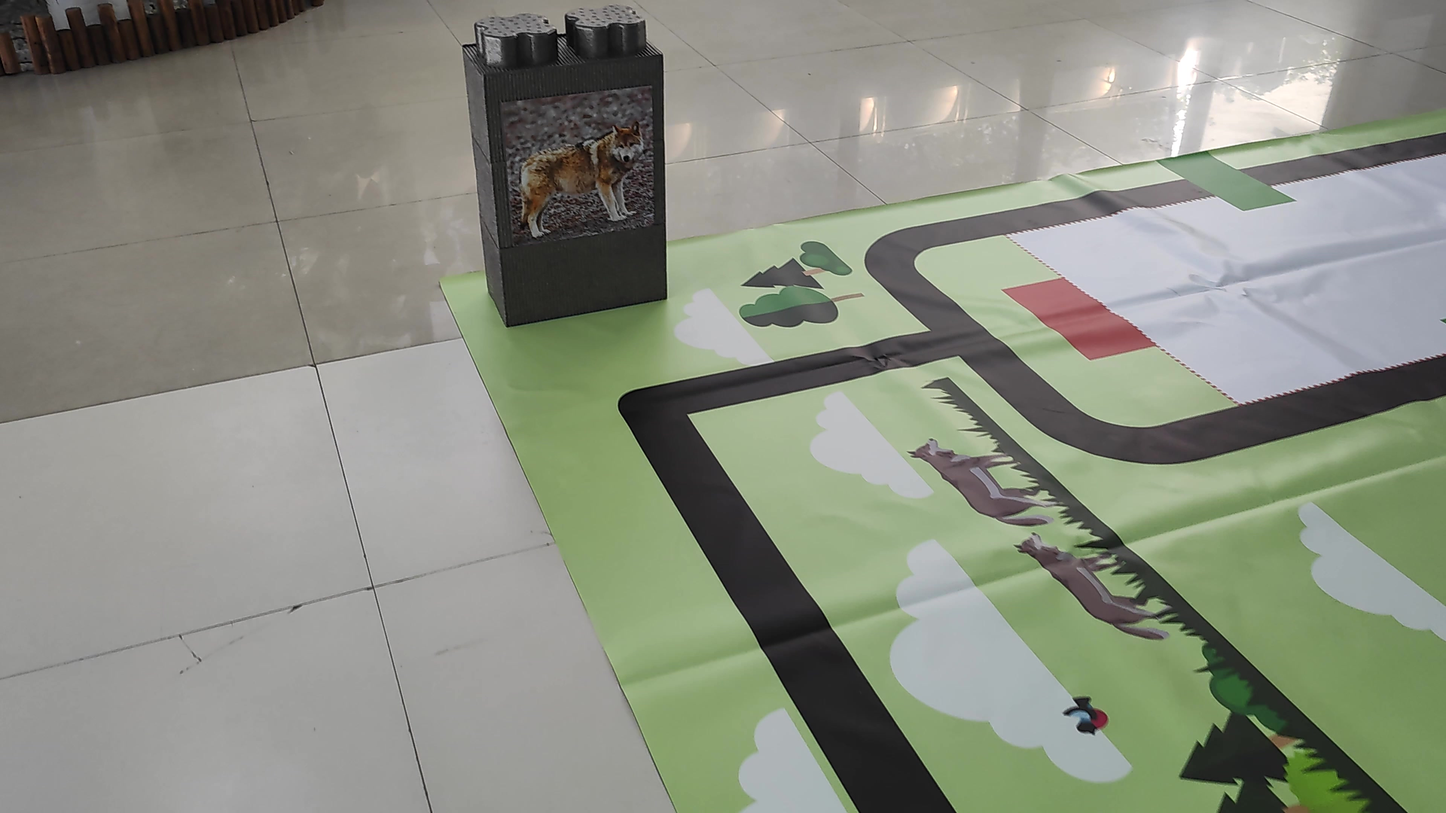wolf: (517, 88, 653, 241)
